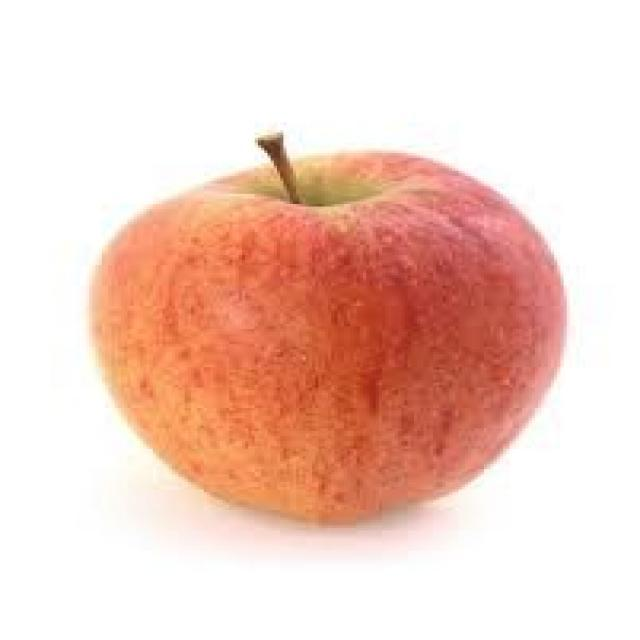Fresh Apple: (92, 154, 583, 524)
